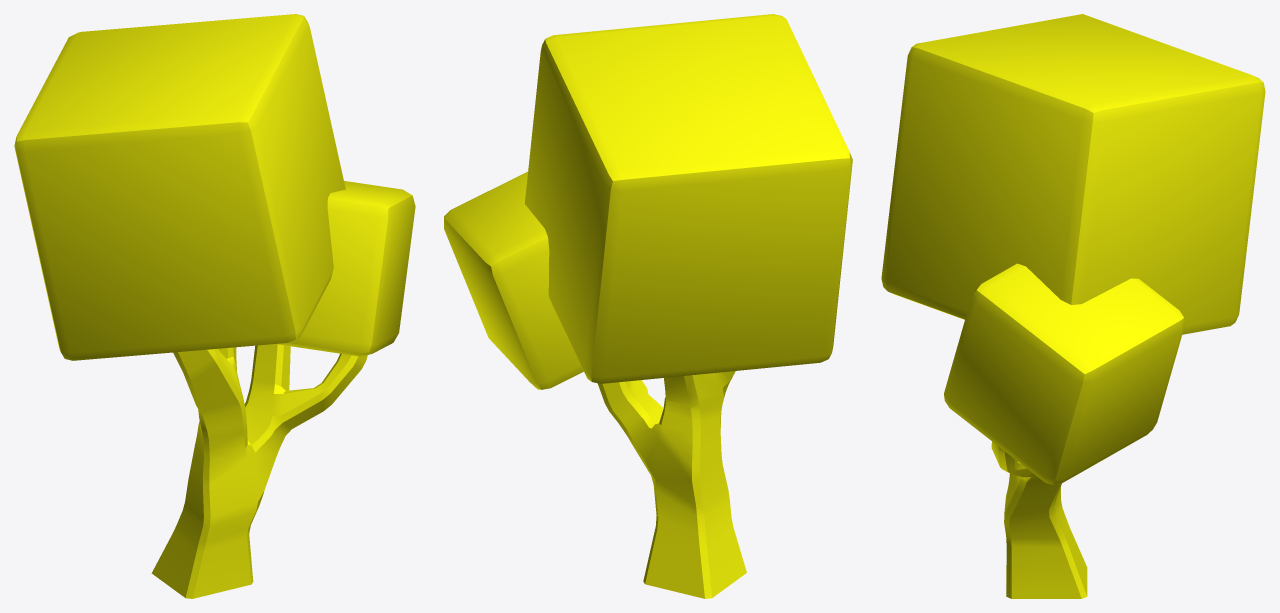
File: Tree_2.glb
3 renders of one model, left to right at view 1: azimuth 30°, elevation 25°; view 2: azimuth 150°, elevation 25°; view 3: azimuth 270°, elevation 25°, orthographic. The views are drawn at different scales.
Parts seen in each view (by area): view 1: Tree_2; view 2: Tree_2; view 3: Tree_2.
Part boxes in pixels (box(x1,y1,x2,y2)): Tree_2: box(14, 14, 415, 598); Tree_2: box(444, 14, 852, 598); Tree_2: box(881, 14, 1265, 598).
Size of the model in its own units: 5.35 by 6.65 by 4.32.
Materials: 1 (1 with a texture image).
